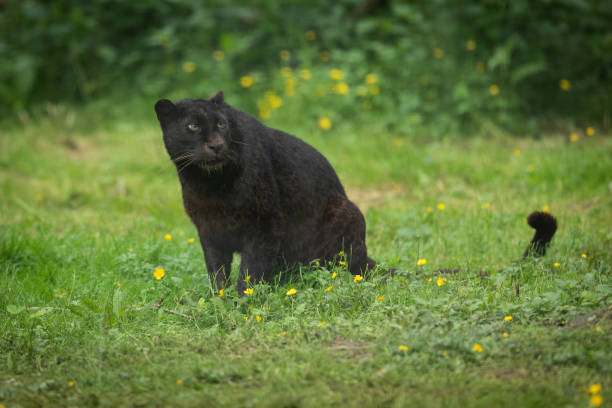panther: (143, 83, 252, 186)
